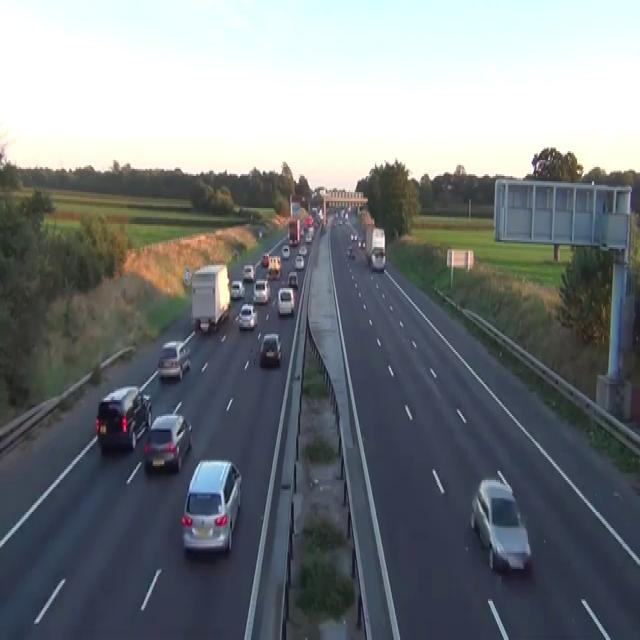Car: (469, 474, 531, 572), (181, 459, 241, 553), (95, 384, 151, 452), (143, 405, 192, 473), (157, 340, 190, 380), (259, 332, 282, 367), (237, 304, 257, 329), (277, 286, 294, 315), (252, 279, 270, 304), (370, 246, 385, 270), (230, 279, 245, 299), (242, 263, 255, 281), (287, 270, 298, 288), (261, 250, 270, 266), (345, 246, 355, 260), (294, 254, 304, 268), (304, 214, 313, 228), (289, 233, 299, 245), (281, 245, 290, 258), (298, 244, 307, 256), (305, 229, 312, 242), (232, 247, 238, 260), (358, 238, 365, 249), (350, 231, 357, 240), (318, 208, 323, 220), (321, 222, 326, 233), (336, 218, 342, 226), (258, 228, 262, 238), (309, 226, 314, 234), (343, 210, 348, 218)
Truck: (190, 263, 230, 334), (364, 224, 385, 270), (288, 217, 300, 245)
